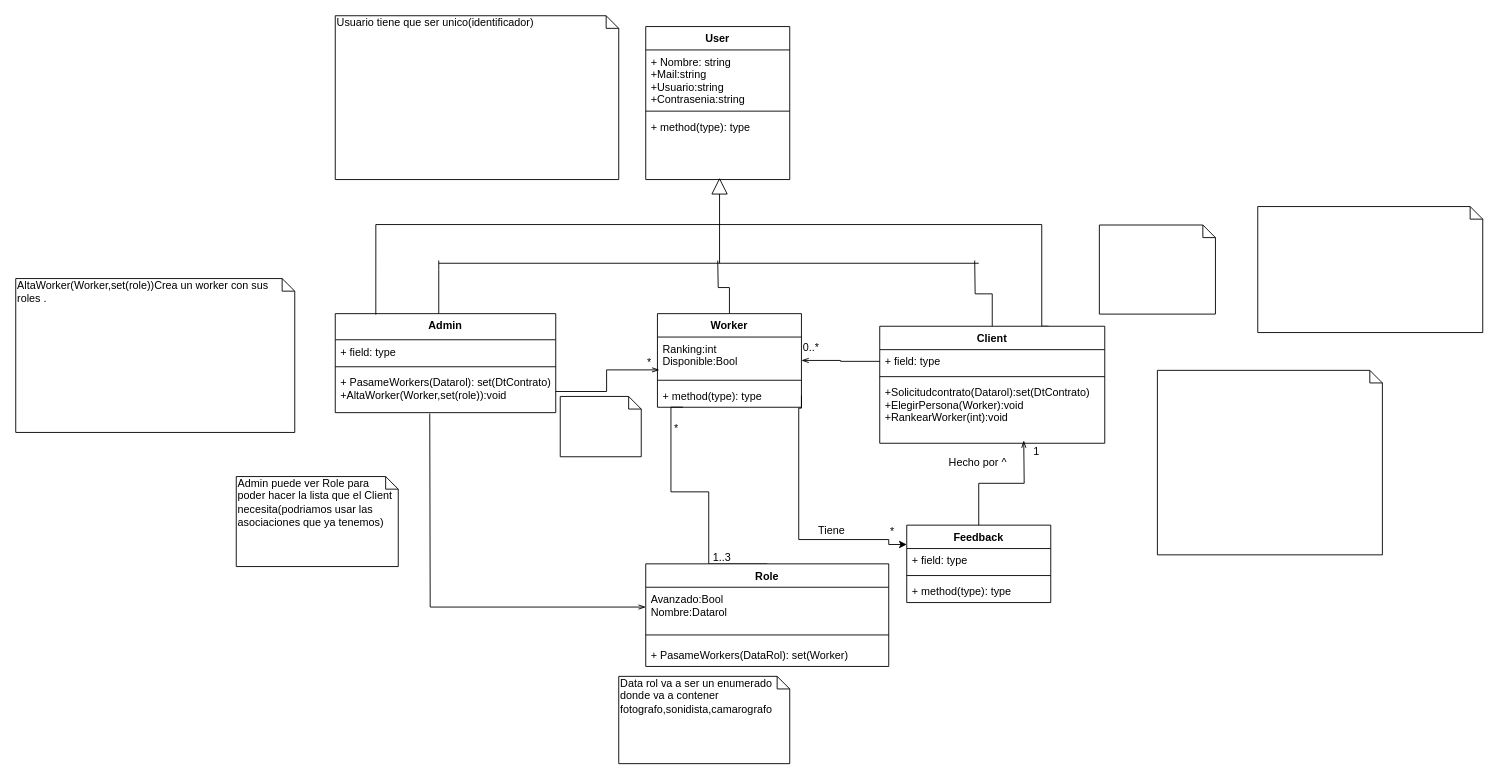
This 1499x779 diagram has some shape labels left out. Each missing label, with the centre of its shape:
"DtContrato tiene una lista de Workers para rol solicitado" goes at (x=1156, y=269).
"ElegirPersona(Worker) me hace el link entre el Cliente y el Worker deseado" goes at (x=1370, y=269).
"Para ver feedbacks" goes at (x=600, y=426).
"RankearWorker rankea al worker que fue usado por el cliente" goes at (x=1269, y=462).
